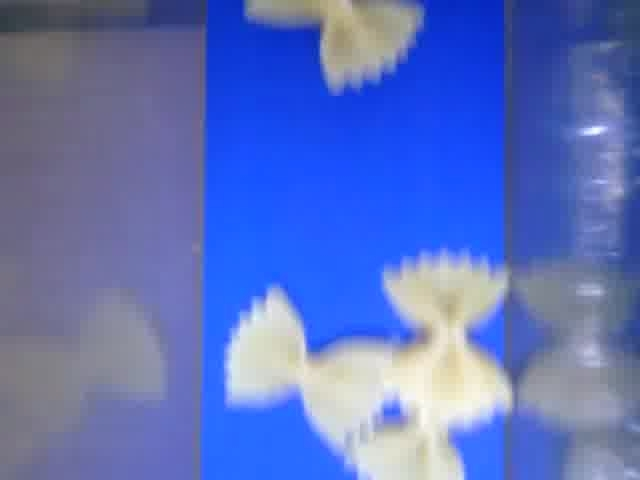farfalle: (228, 285, 409, 454), (384, 252, 517, 432), (245, 1, 426, 100), (365, 426, 465, 480)
